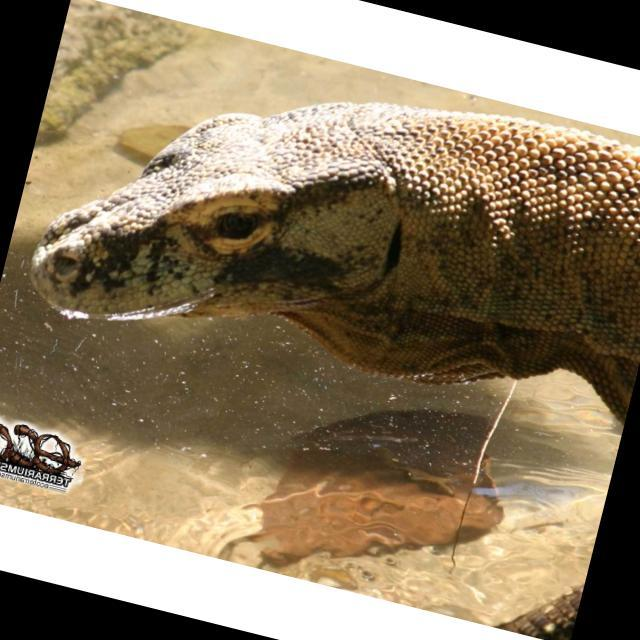KomodoDragon: (25, 10, 640, 453)
